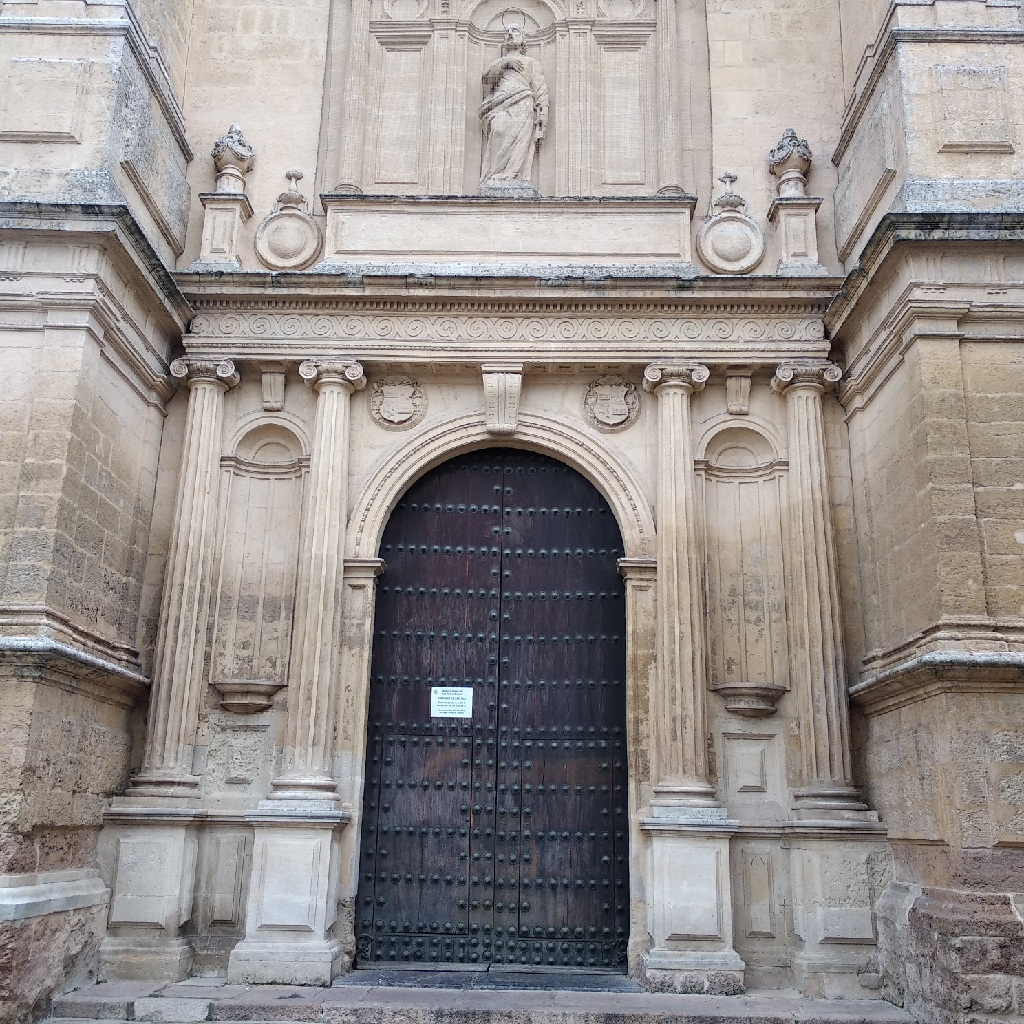arco-medio-punto: (361, 418, 643, 602)
serliana: (365, 1, 661, 189)
